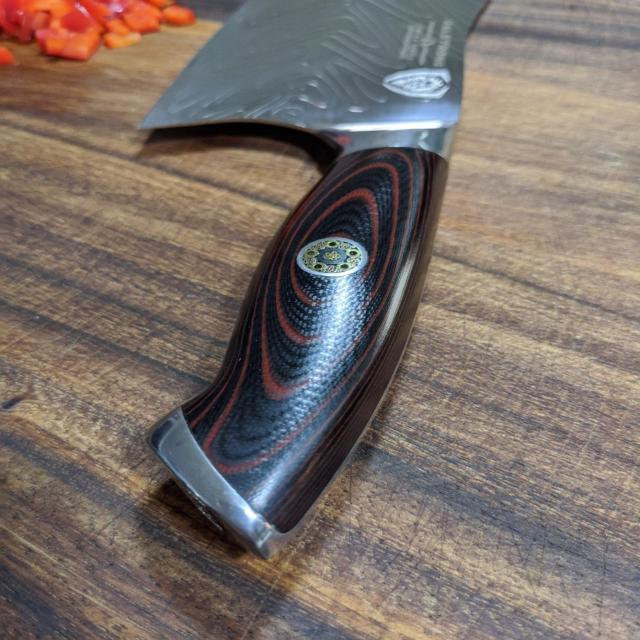cleaver: (138, 0, 486, 552)
